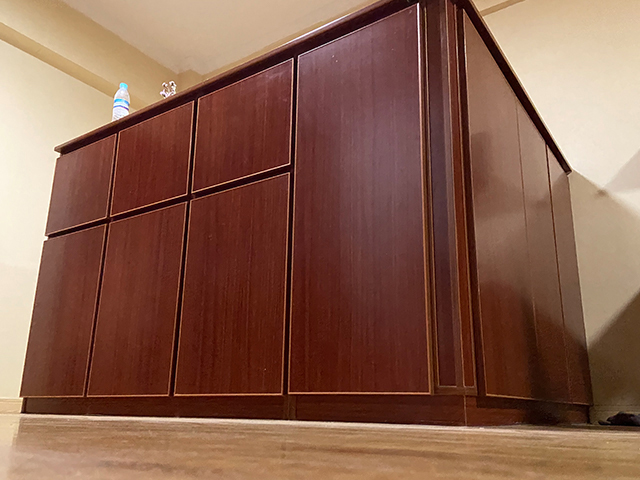cabinet: (18, 1, 593, 427)
socks: (596, 410, 640, 429)
